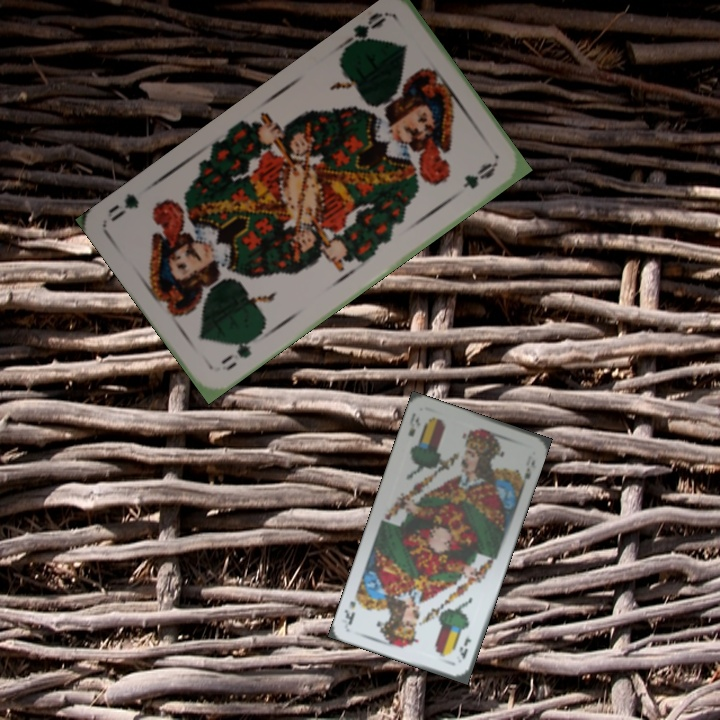EK: (404, 408, 423, 439), (455, 634, 474, 662)
GO: (337, 8, 389, 55), (217, 331, 262, 374)
